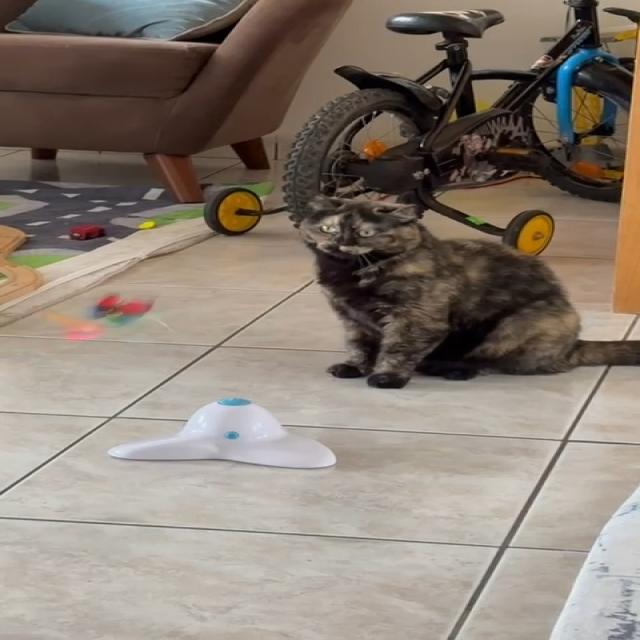authorized: (289, 192, 639, 388)
